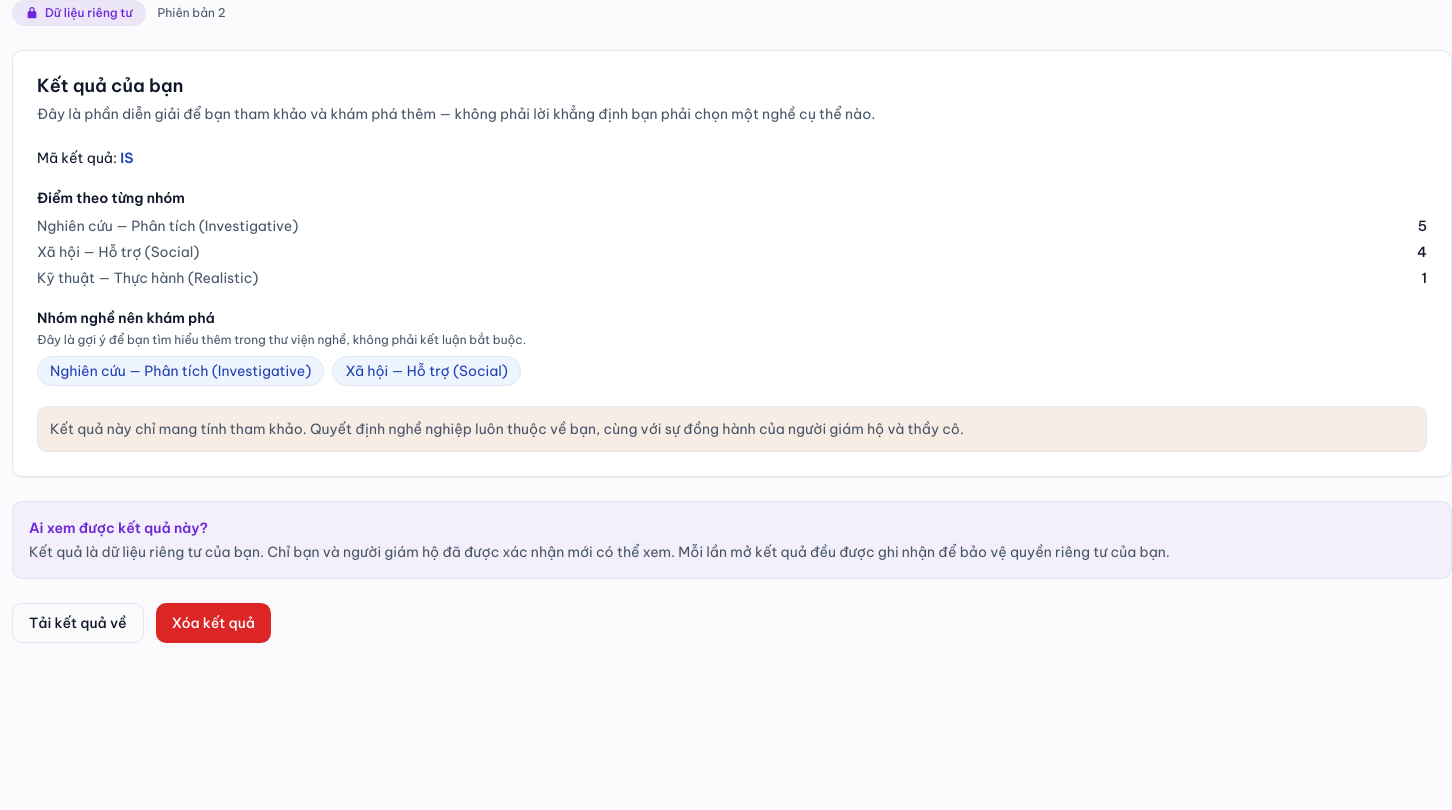
Scenario: ResultView (CP-3, FR-12/14) › shows a delete error and keeps the result when delete fails
Expected: the element with test id "sensitive-badge" is shown, [12,0,146,26]
Step 1. Click the button "Xóa kết quả" → (213, 622), box [156,602,271,642]
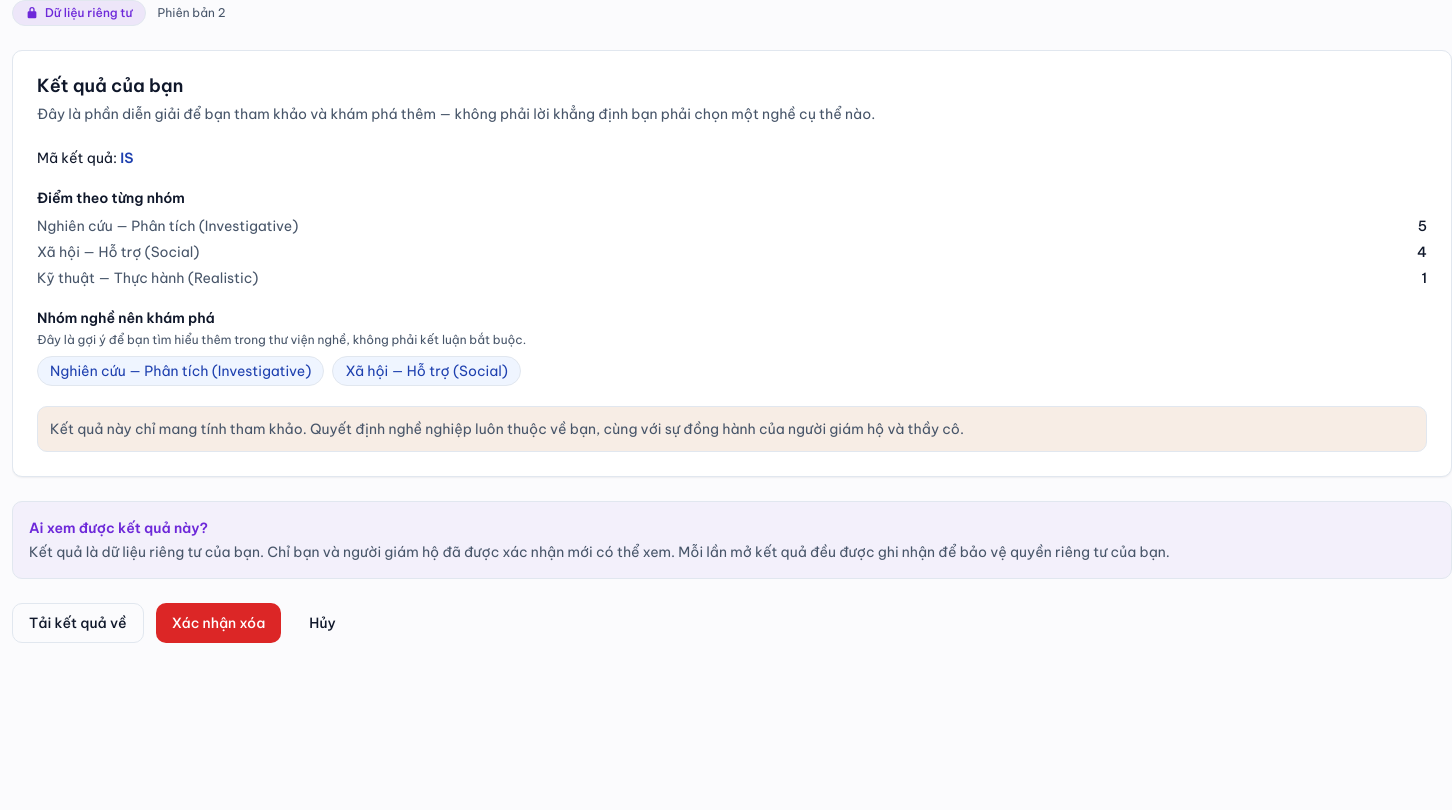
Step 2. Click the button "Xác nhận xóa" → (218, 622), box [156,602,281,642]
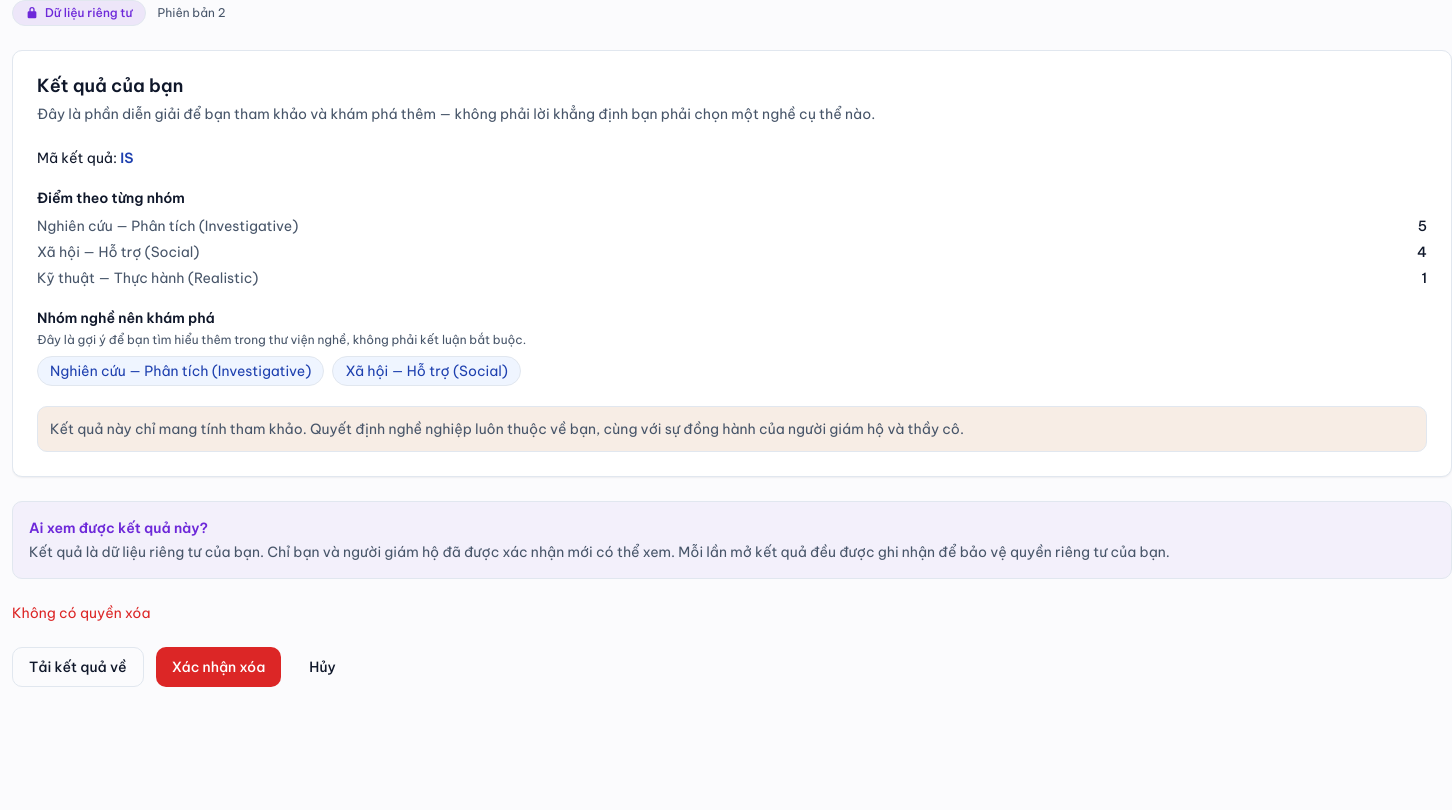
Now the message reads "Không có quyền xóa", box [12,604,150,622]
